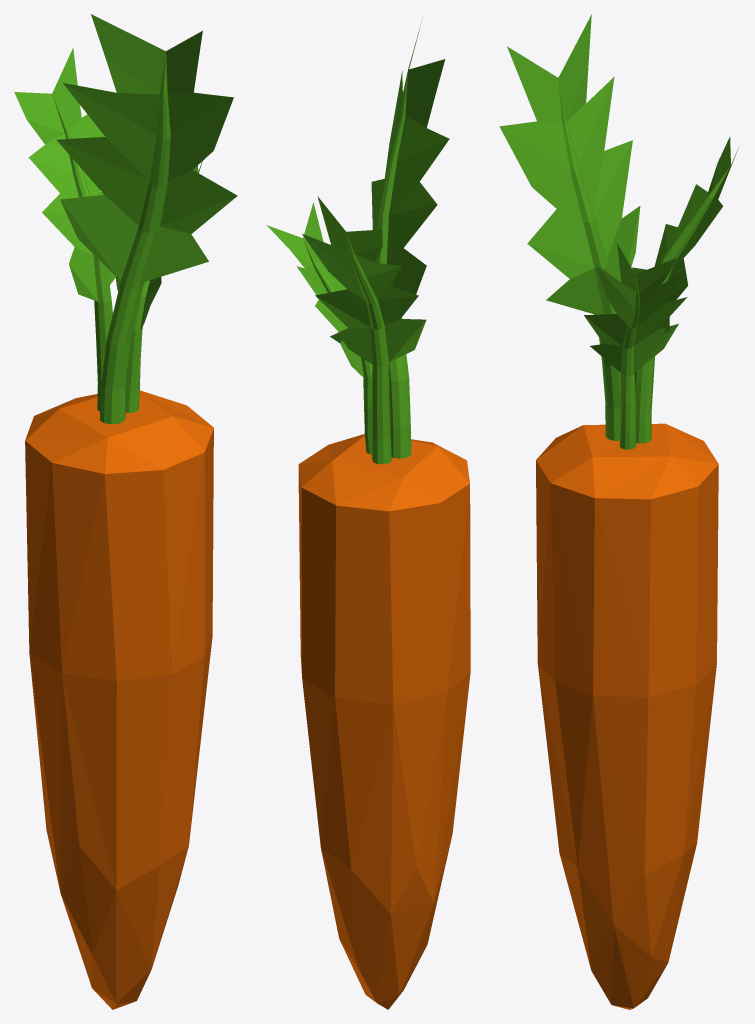
File: Carrot_0.fbx
3 views of the same model, side by side, from view 1: azimuth 30°, elevation 25°; view 2: azimuth 150°, elevation 25°; view 3: azimuth 270°, elevation 25° (orthographic). The views are drawn at different scales.
Parts seen in each view (by area): view 1: Cylinder.002; view 2: Cylinder.002; view 3: Cylinder.002.
Boxes of the visible parts, x1,y1,x2,y2 form: Cylinder.002: [14, 14, 237, 1009]; Cylinder.002: [267, 22, 470, 1009]; Cylinder.002: [499, 14, 738, 1009].
Size of the model in its own units: 195 by 870 by 162.
